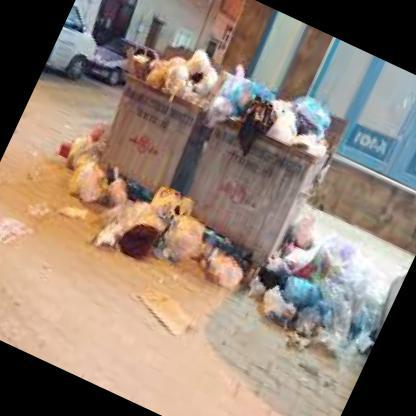Garbage: (249, 225, 394, 361), (209, 66, 343, 156), (84, 170, 180, 284), (128, 26, 242, 116), (151, 223, 263, 304), (45, 136, 119, 206)
